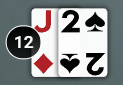2: (58, 9, 84, 35)
j: (32, 9, 57, 35)
